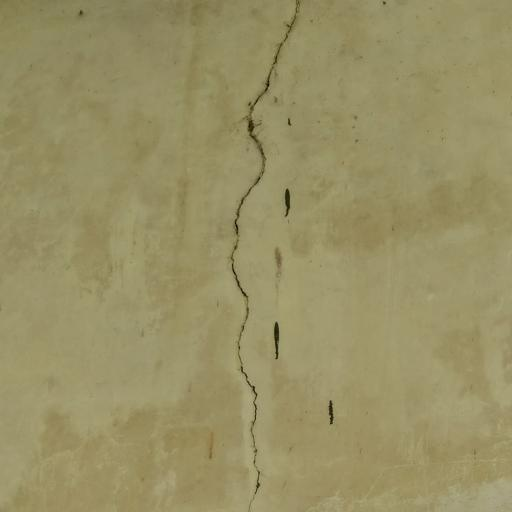major_crack: (212, 0, 314, 512)
